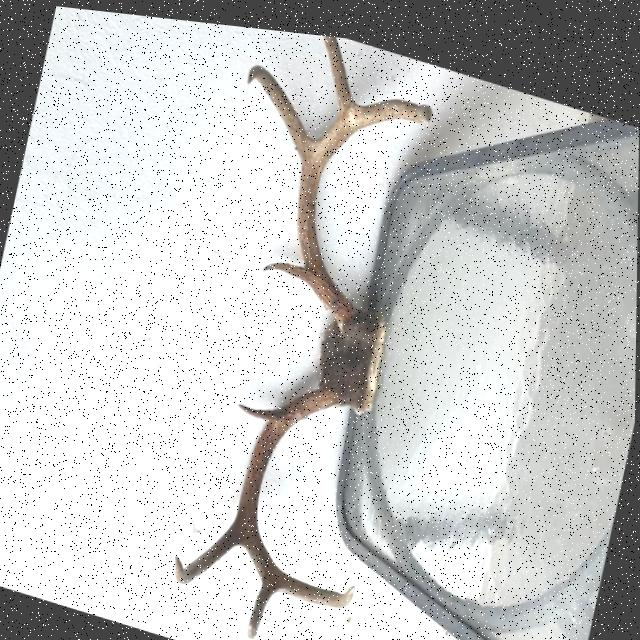L-F: (298, 89, 433, 319)
L-G1: (263, 255, 316, 283)
L-G2: (247, 58, 319, 160)
L-G3: (323, 28, 361, 107)
R-F: (240, 373, 358, 600)
R-G1: (239, 397, 287, 416)
R-G2: (176, 510, 247, 579)
R-G3: (249, 570, 283, 634)
